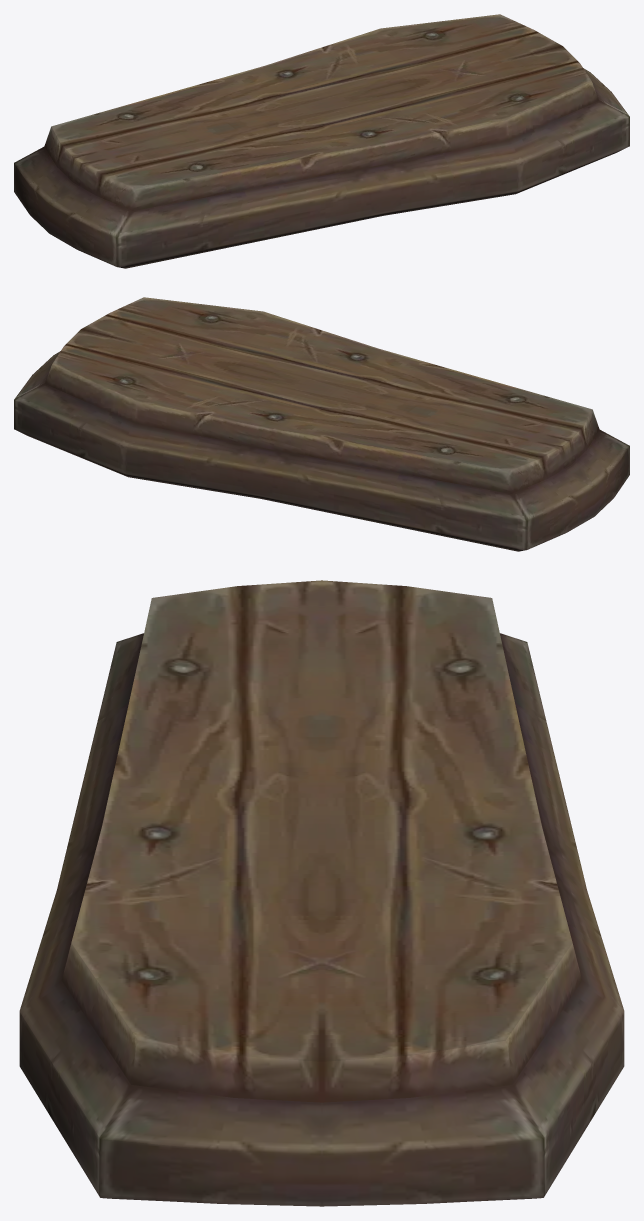
3 views of the same model, one above another, from view 1: azimuth 30°, elevation 25°; view 2: azimuth 150°, elevation 25°; view 3: azimuth 270°, elevation 25° (orthographic). The views are drawn at different scales.
Size of the model in its own units: 3.68 by 0.4695 by 1.78.
Materials: 1 (1 with a texture image).
